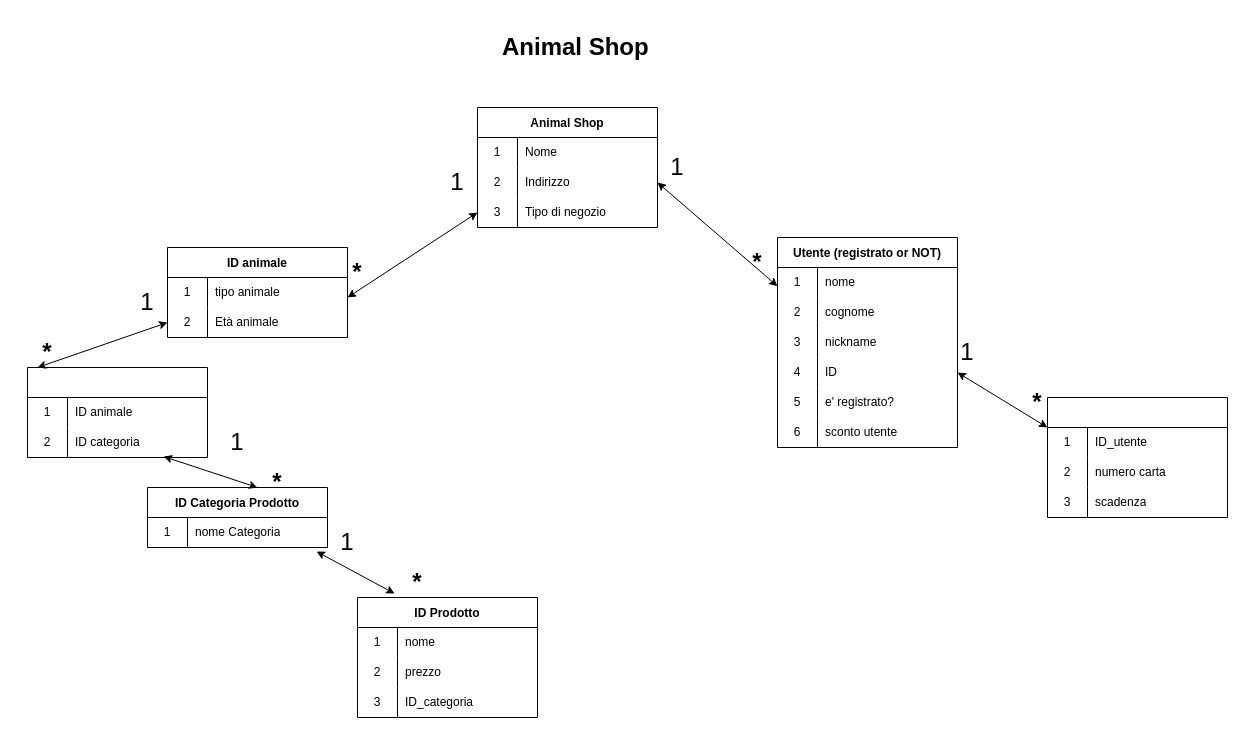
Some shapes in this 1245 by 735 pixel diagram are drawn without their labels. Here are the shapes that lost their labels. From the top down, the box of each, then its label:
(26, 366, 208, 458): PIVOT
(1046, 396, 1228, 518): Carta di credito
